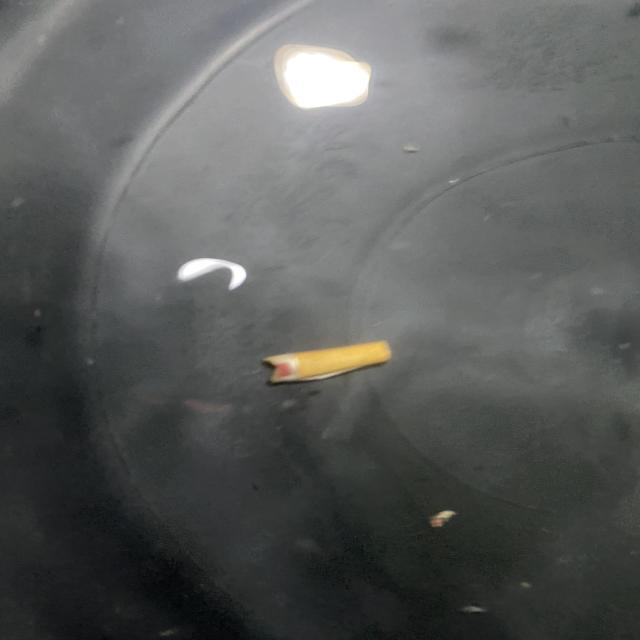Cigarette Filter: (249, 328, 402, 399)
